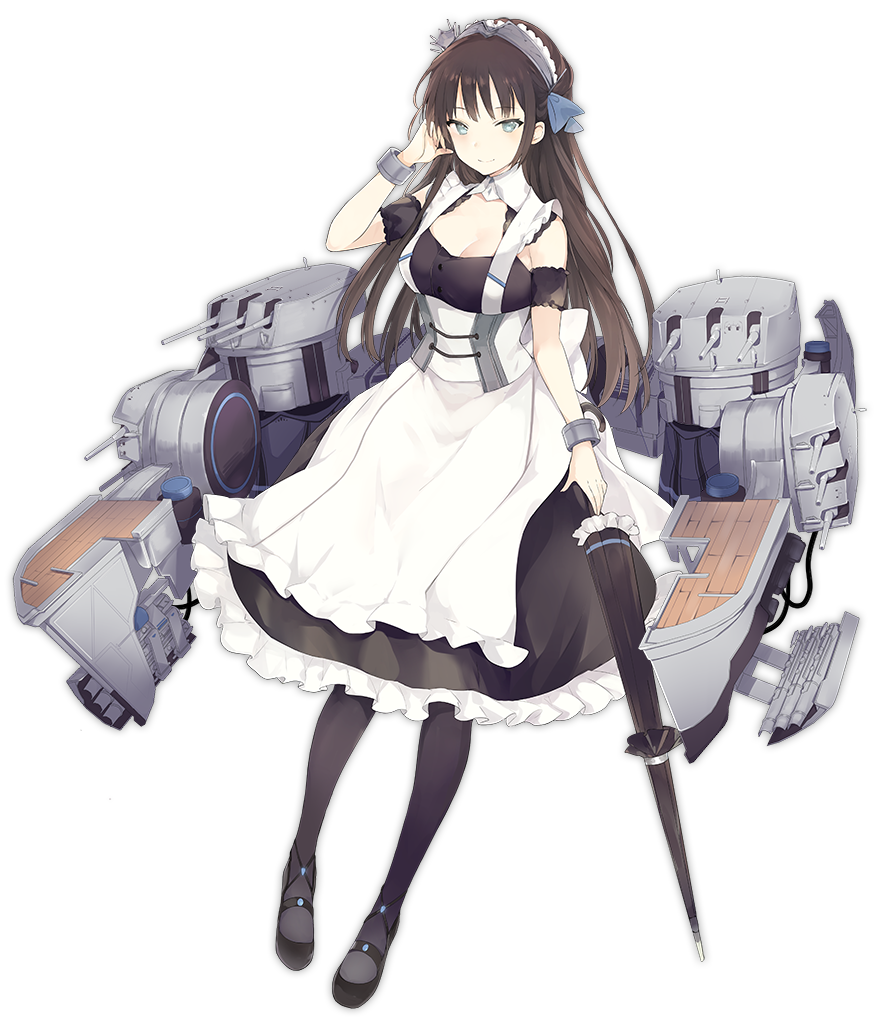person: (213, 22, 663, 749)
